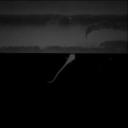fish: (46, 54, 76, 84)
